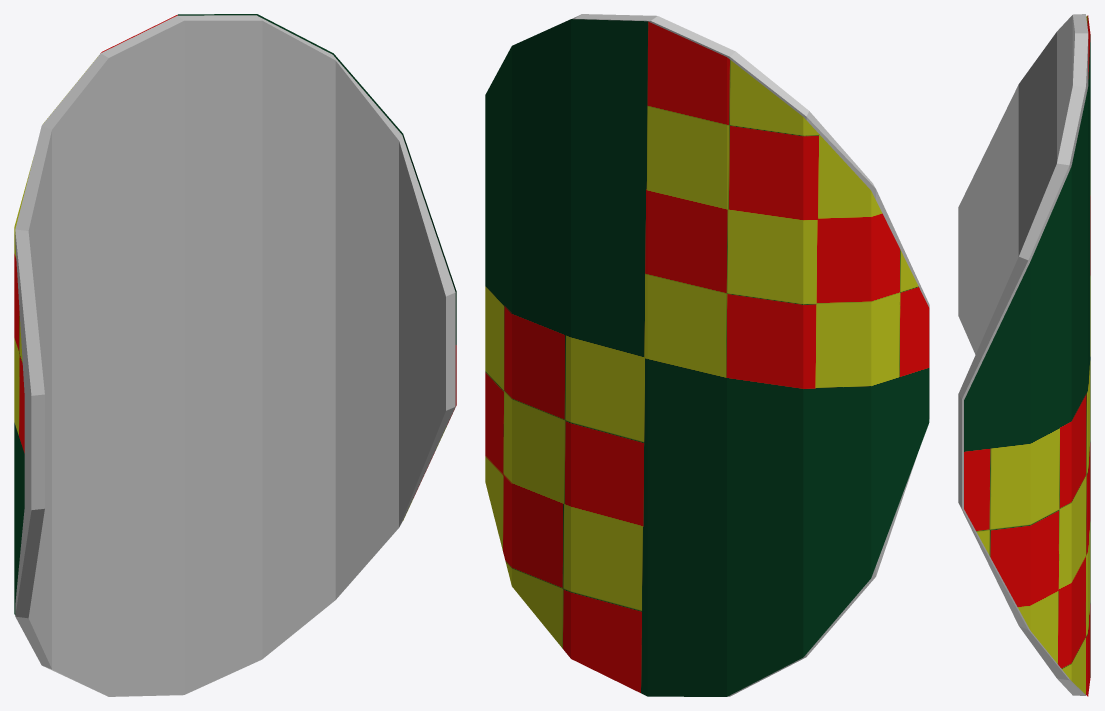
File: RomanShield.obj
3 renders of one model, left to right at view 1: azimuth 30°, elevation 25°; view 2: azimuth 150°, elevation 25°; view 3: azimuth 270°, elevation 25°, orthographic. The views are drawn at different scales.
Parts seen in each view (by area): view 1: Circle; view 2: Circle; view 3: Circle.
Boxes of the visible parts, bbox=[...] form: Circle: bbox=[14, 14, 456, 696]; Circle: bbox=[485, 14, 929, 696]; Circle: bbox=[958, 14, 1090, 696].
Bounding box in the file's own units: 2.14 × 3.21 × 0.5979.
